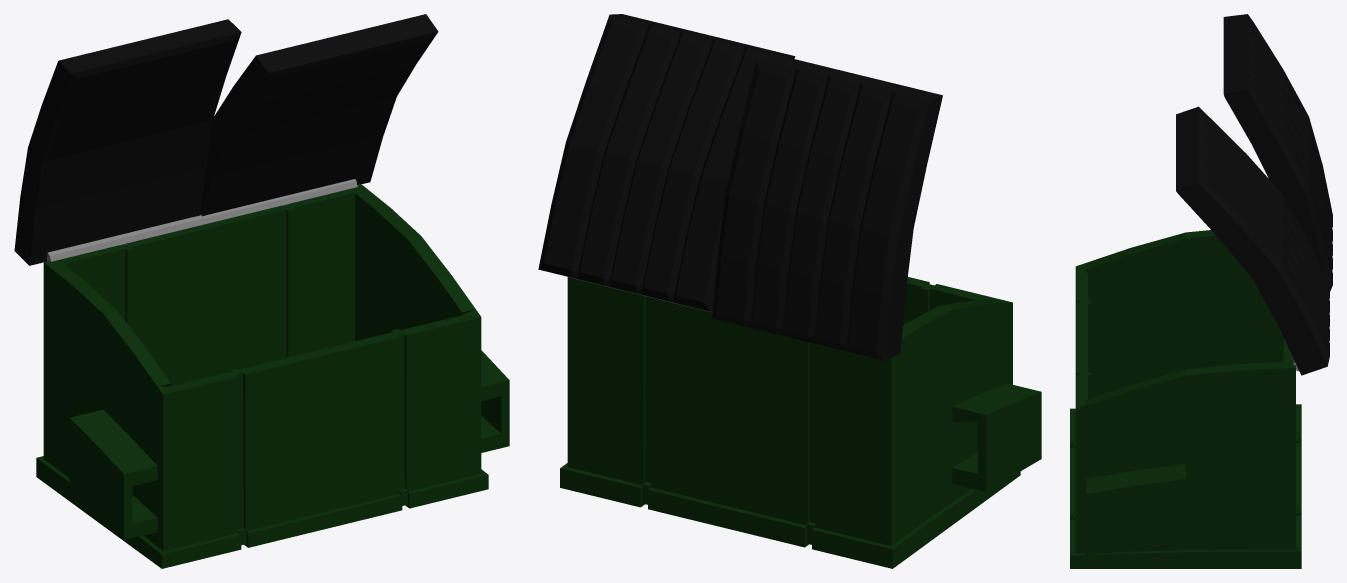
The model's file is DumpsterOpen.fbx.
3 views of the same model, side by side, from view 1: azimuth 30°, elevation 25°; view 2: azimuth 150°, elevation 25°; view 3: azimuth 270°, elevation 25° (orthographic). The views are drawn at different scales.
Visible parts, largest first — view 1: DumpsterOpen; view 2: DumpsterOpen; view 3: DumpsterOpen.
Boxes of the visible parts, x1,y1,x2,y2 form: DumpsterOpen: [14, 14, 509, 568]; DumpsterOpen: [538, 14, 1041, 568]; DumpsterOpen: [1070, 14, 1332, 568].
Bounding box in the file's own units: 180 × 196 × 115.
